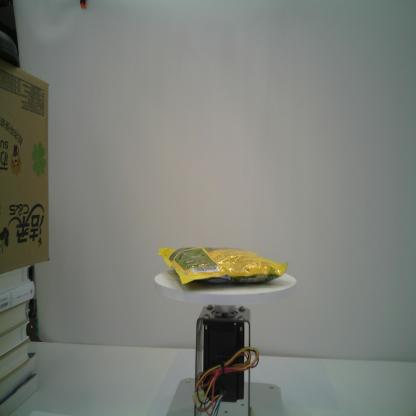Seasoner: (158, 246, 288, 286)
